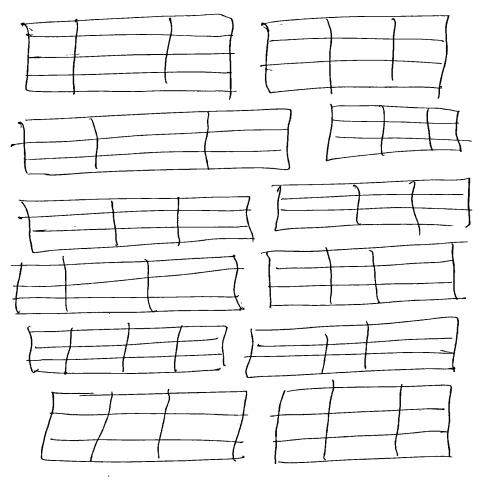Table: (12, 110, 293, 177), (21, 15, 236, 101), (260, 16, 450, 100), (271, 381, 453, 465), (41, 390, 249, 463), (16, 194, 256, 254), (8, 255, 245, 315), (262, 242, 469, 309), (245, 317, 460, 379), (272, 179, 473, 240), (21, 321, 229, 375), (327, 105, 473, 162)
